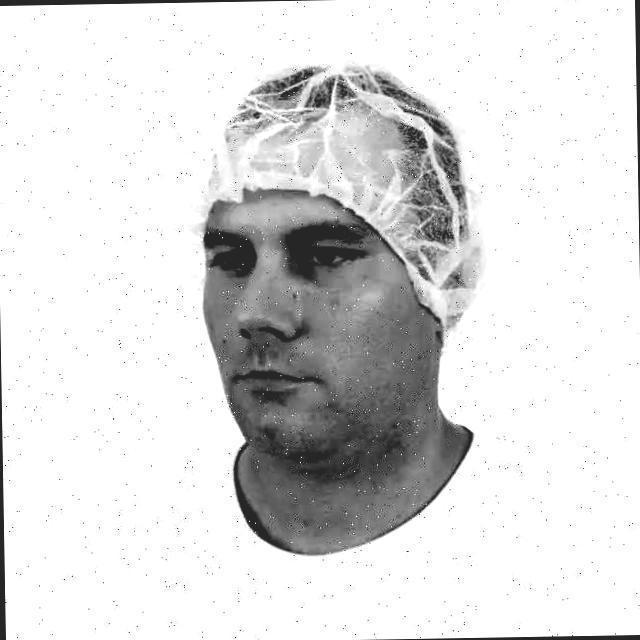no_hairnet: (204, 284, 408, 446)
